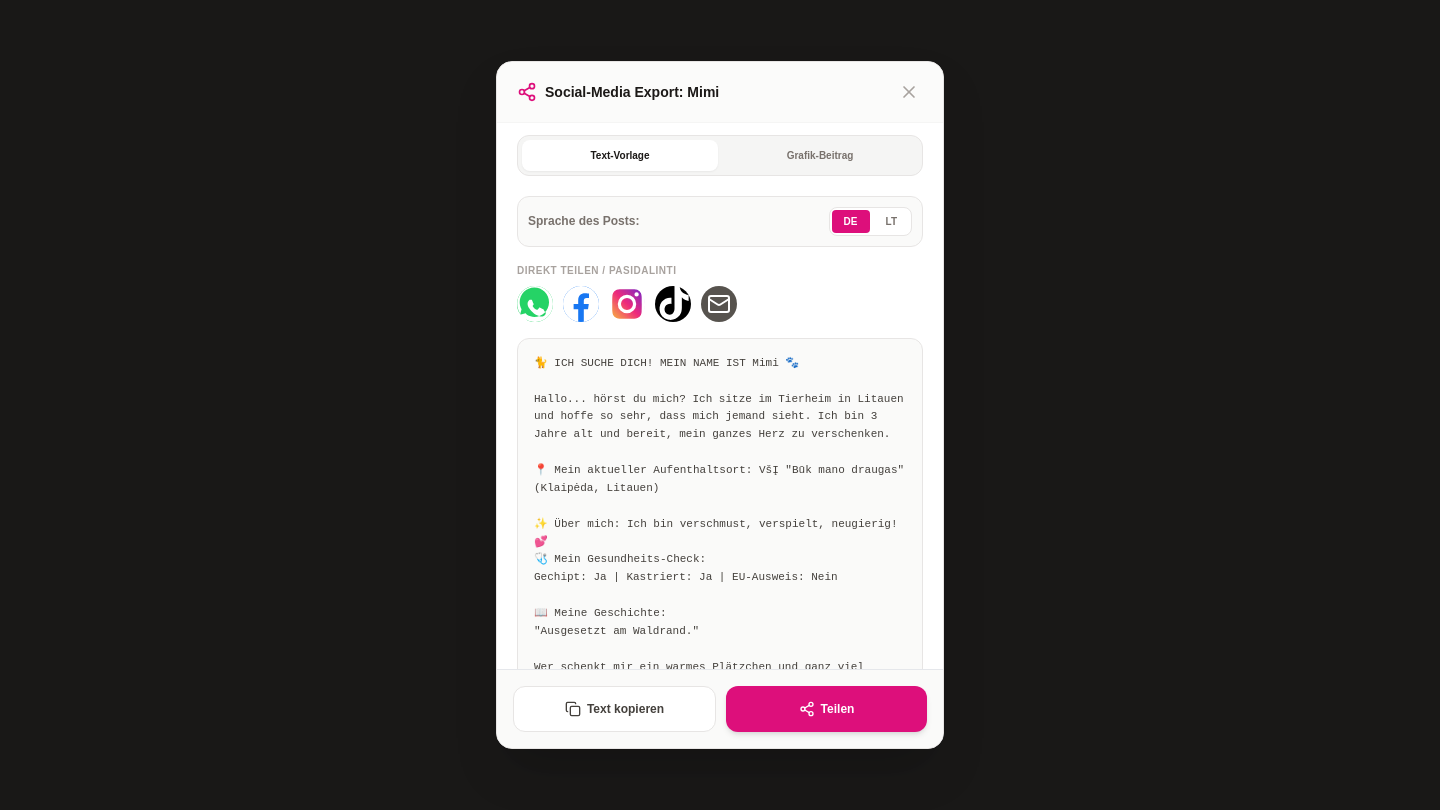
Test case: SharePanel Social Exporter Component › Language toggle switch (DE <-> LT) updates description translation and state
Toggle to LT
Step 1. Click the button "LT" → (891, 221), box [874,210,909,233]
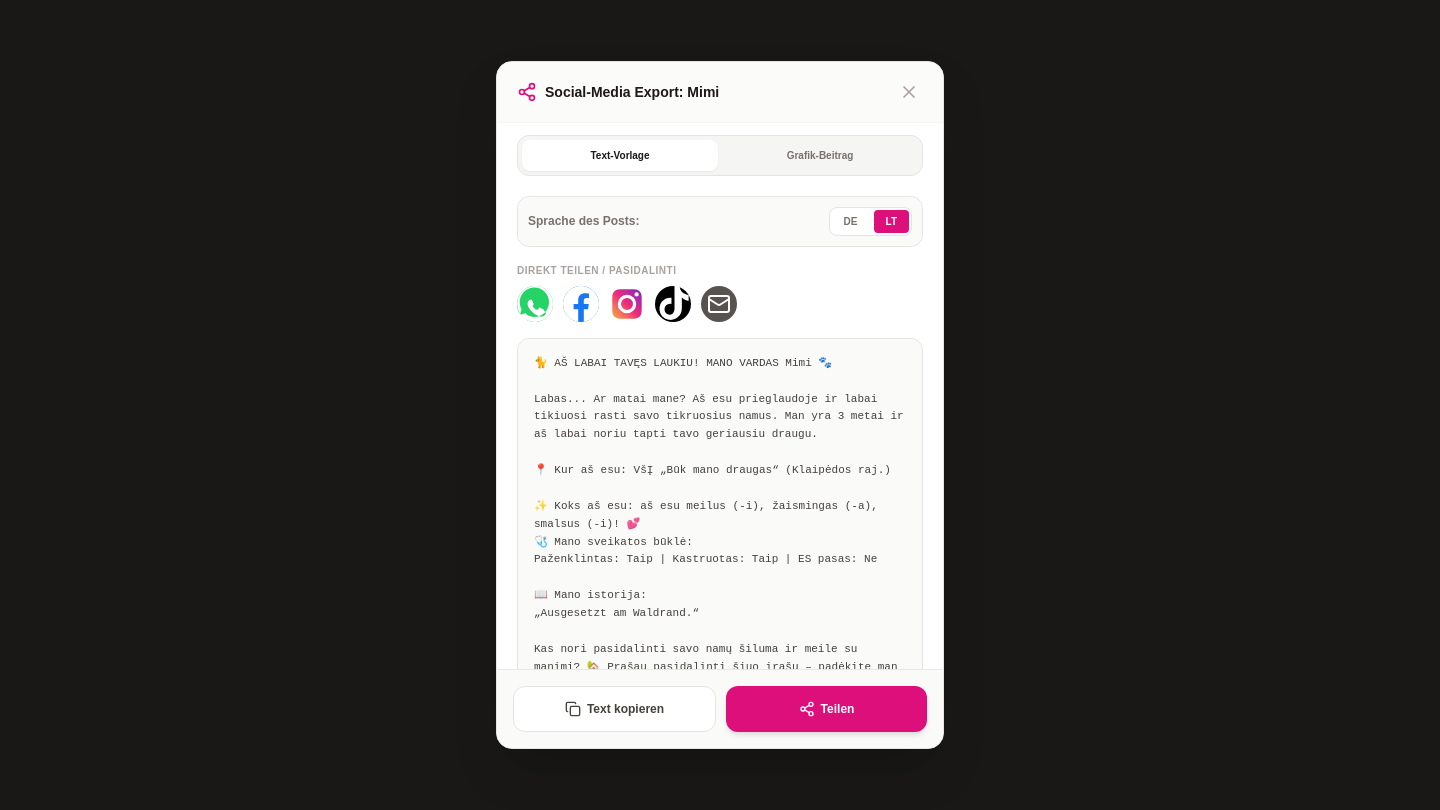
Result: the text "AŠ LABAI TAVĘS LAUKIU! MANO VARDAS Mimi" is shown at [534,357,910,669]
